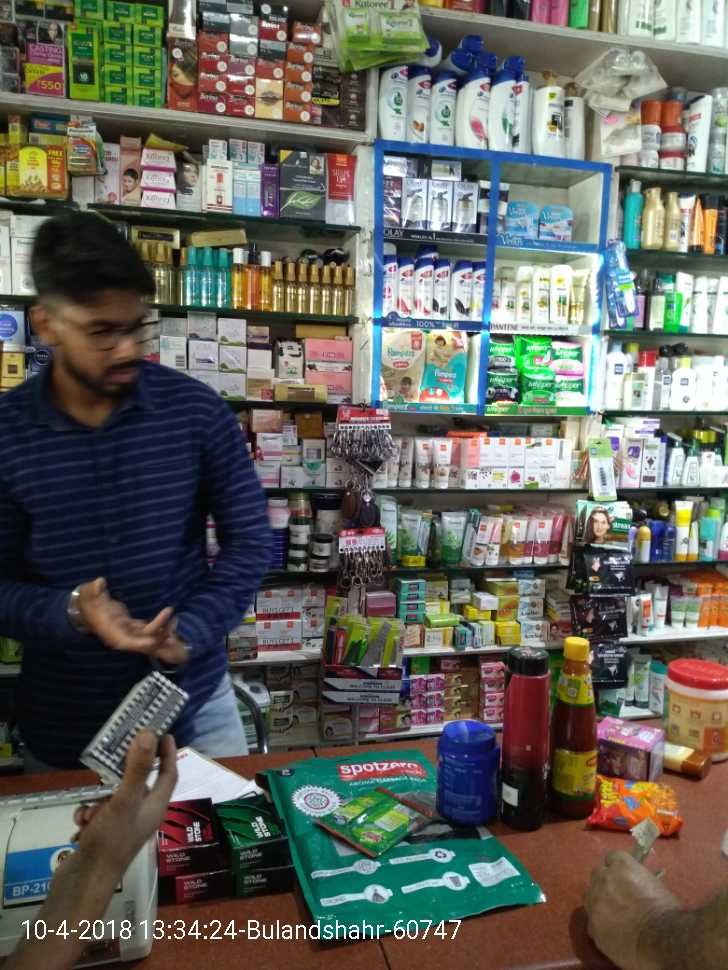venus: (538, 205, 573, 238), (507, 202, 539, 230)
